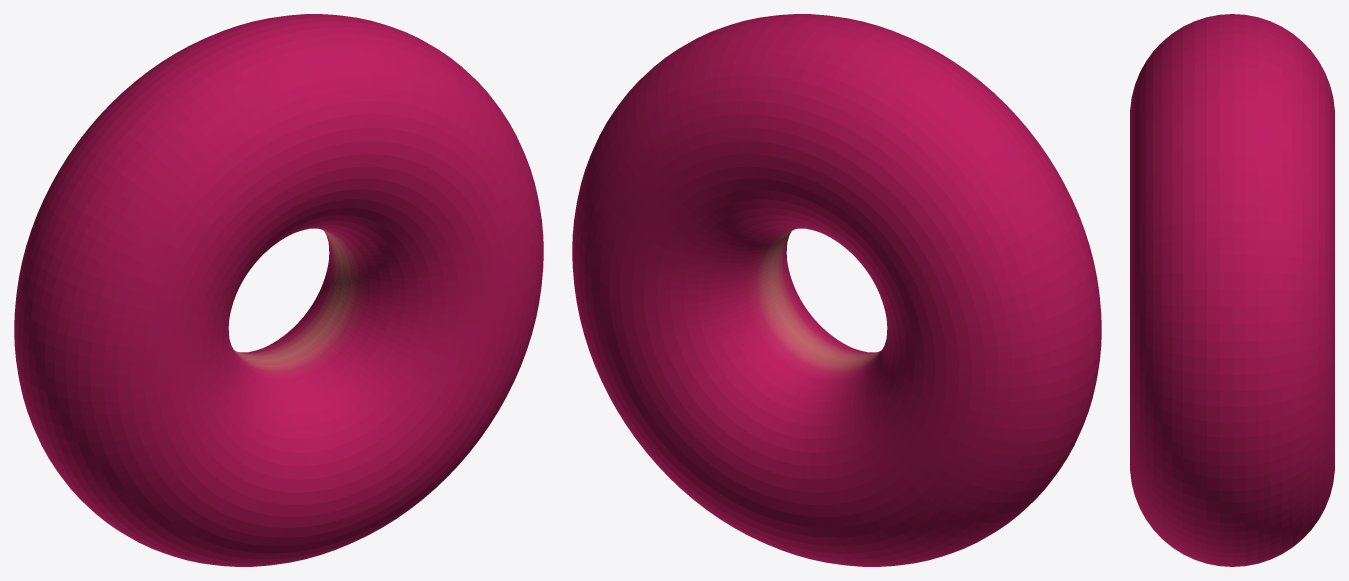
3 renders of one model, left to right at view 1: azimuth 30°, elevation 25°; view 2: azimuth 150°, elevation 25°; view 3: azimuth 270°, elevation 25°, orthographic. The views are drawn at different scales.
Visible parts, largest first — view 1: world; view 2: world; view 3: world.
Boxes of the visible parts, x1,y1,x2,y2 form: world: [14, 14, 543, 566]; world: [572, 14, 1101, 566]; world: [1130, 14, 1334, 566].
Size of the model in its own units: 21.2 by 21.2 by 7.85.
